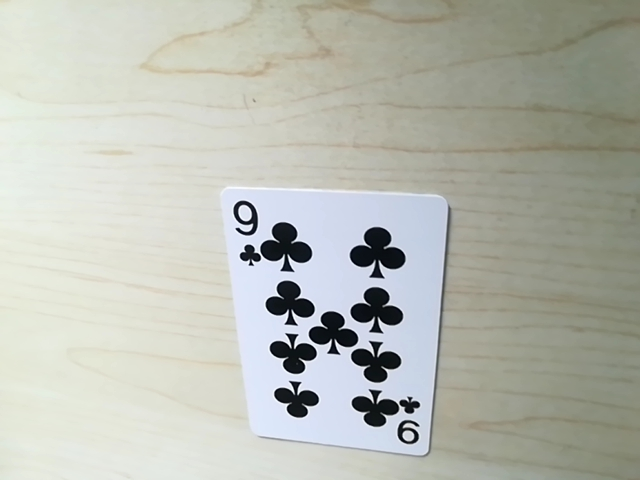mh 9: (226, 195, 268, 257), (379, 401, 426, 451)
